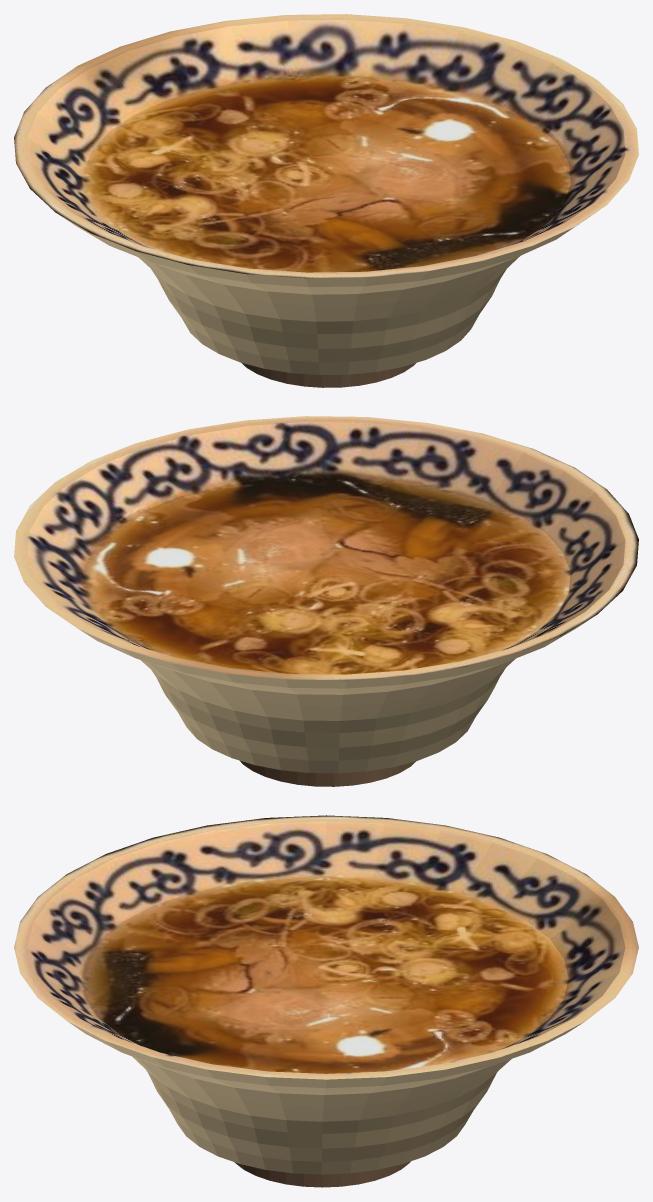
The model's file is tukiya.fbx.
3 renders of one model, top to bottom at view 1: azimuth 30°, elevation 25°; view 2: azimuth 150°, elevation 25°; view 3: azimuth 270°, elevation 25°, orthographic.
Visible parts, largest first — view 1: Cylinder; view 2: Cylinder; view 3: Cylinder.
Boxes of the visible parts, bbox=[...] form: Cylinder: bbox=[14, 14, 638, 387]; Cylinder: bbox=[14, 416, 638, 786]; Cylinder: bbox=[14, 815, 638, 1187].
Size of the model in its own units: 1365 by 481 by 1365.
1 material, 1 textured.
